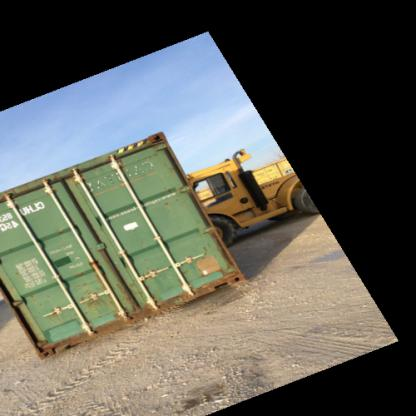Damage: (193, 244, 231, 286), (81, 278, 117, 316), (126, 156, 163, 180), (86, 169, 122, 193), (44, 301, 69, 328), (164, 196, 182, 212)
